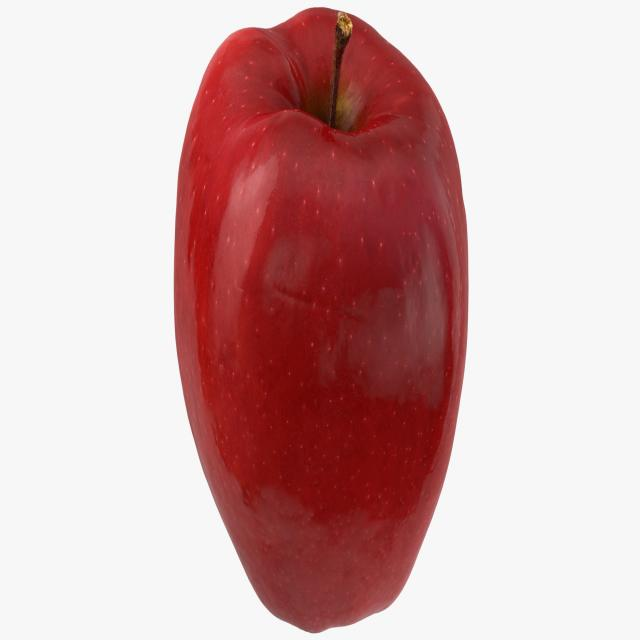Apple: (156, 4, 470, 630)
